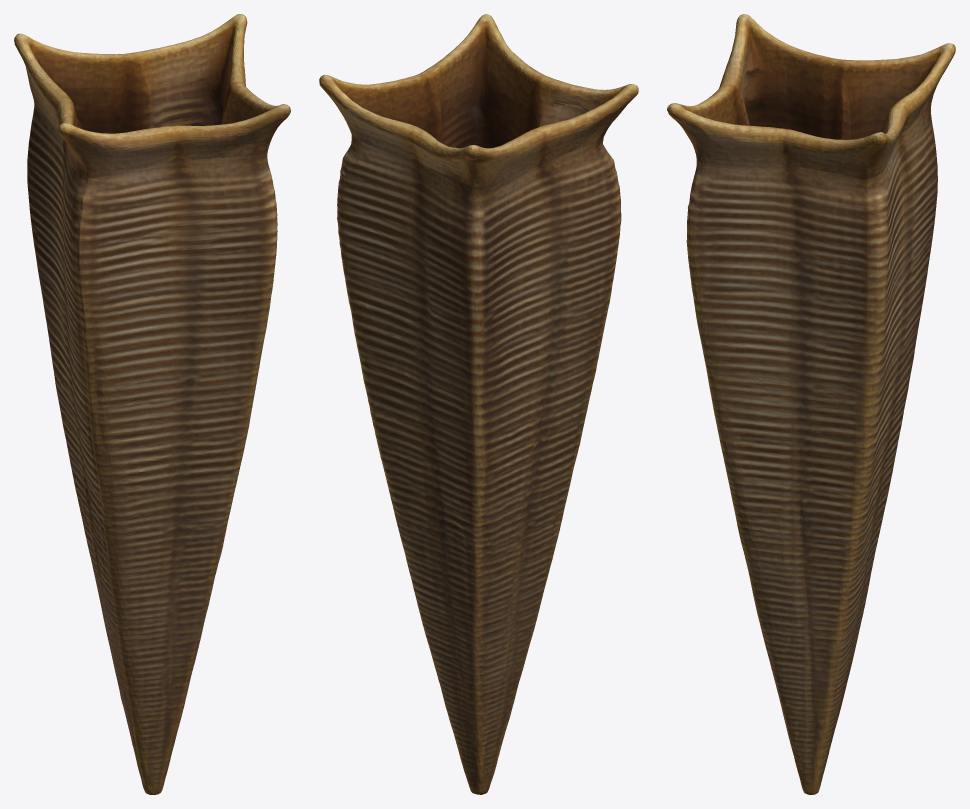
3 views of the same model, side by side, from view 1: azimuth 30°, elevation 25°; view 2: azimuth 150°, elevation 25°; view 3: azimuth 270°, elevation 25° (orthographic).
Visible parts, largest first — view 1: world; view 2: world; view 3: world.
Part boxes in pixels (box(x1,y1,x2,y2)): world: box(14, 14, 290, 794); world: box(319, 14, 638, 794); world: box(667, 14, 955, 794).
Size of the model in its own units: 0.0442 by 0.12 by 0.0437.
Materials: 1 (1 with a texture image).
